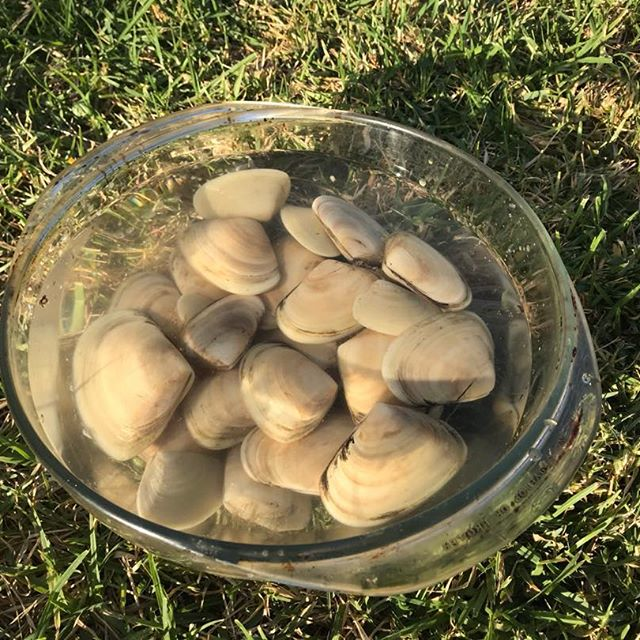tuatua: (69, 307, 195, 462), (321, 400, 465, 525), (382, 306, 499, 408), (238, 338, 336, 447), (273, 255, 381, 349), (175, 210, 283, 296), (221, 443, 318, 535), (381, 225, 478, 315), (176, 288, 270, 373), (134, 450, 227, 532), (237, 420, 333, 499), (107, 264, 190, 345), (182, 366, 253, 455), (337, 319, 395, 425), (307, 191, 389, 265), (190, 165, 288, 223), (351, 275, 437, 332)
